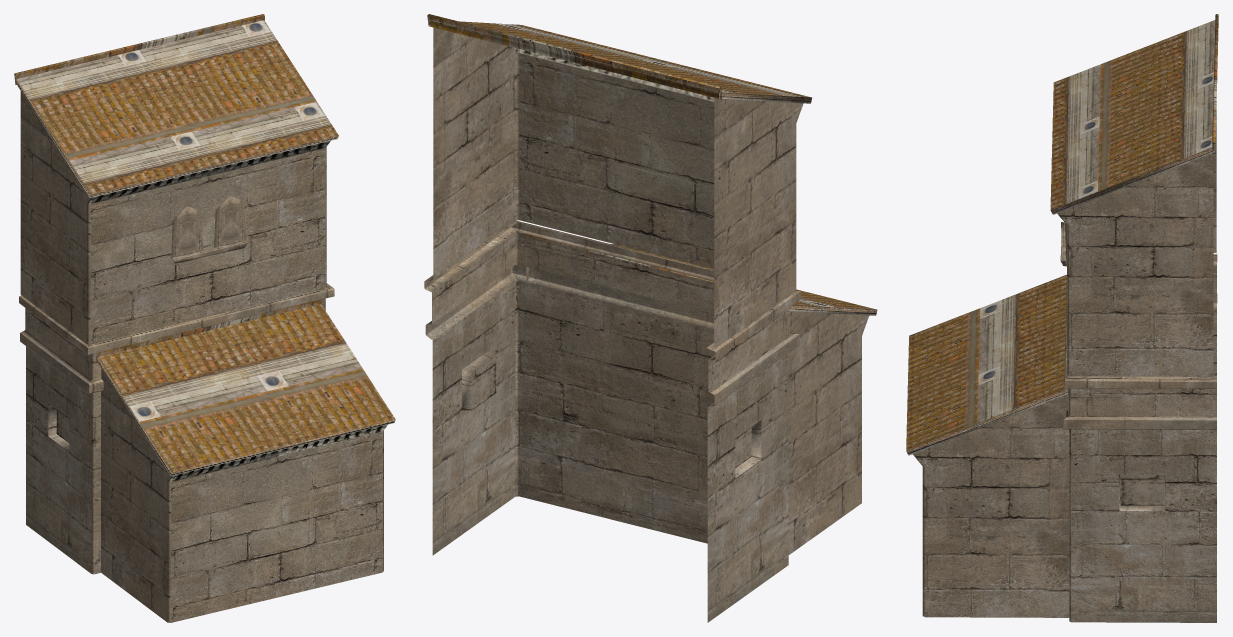
Rendered from Basic4.fbx.
3 renders of one model, left to right at view 1: azimuth 30°, elevation 25°; view 2: azimuth 150°, elevation 25°; view 3: azimuth 270°, elevation 25°, orthographic. The views are drawn at different scales.
Parts seen in each view (by area): view 1: LV_Spechia_City_PalaceWall05_SM_SMK; view 2: LV_Spechia_City_PalaceWall05_SM_SMK; view 3: LV_Spechia_City_PalaceWall05_SM_SMK.
Part boxes in pixels (bbox=[...]): LV_Spechia_City_PalaceWall05_SM_SMK: bbox=[14, 14, 395, 622]; LV_Spechia_City_PalaceWall05_SM_SMK: bbox=[424, 14, 877, 622]; LV_Spechia_City_PalaceWall05_SM_SMK: bbox=[906, 14, 1218, 622].
Bounding box in the file's own units: 2.3 × 3.98 × 2.34.
3 materials, 3 textured.
